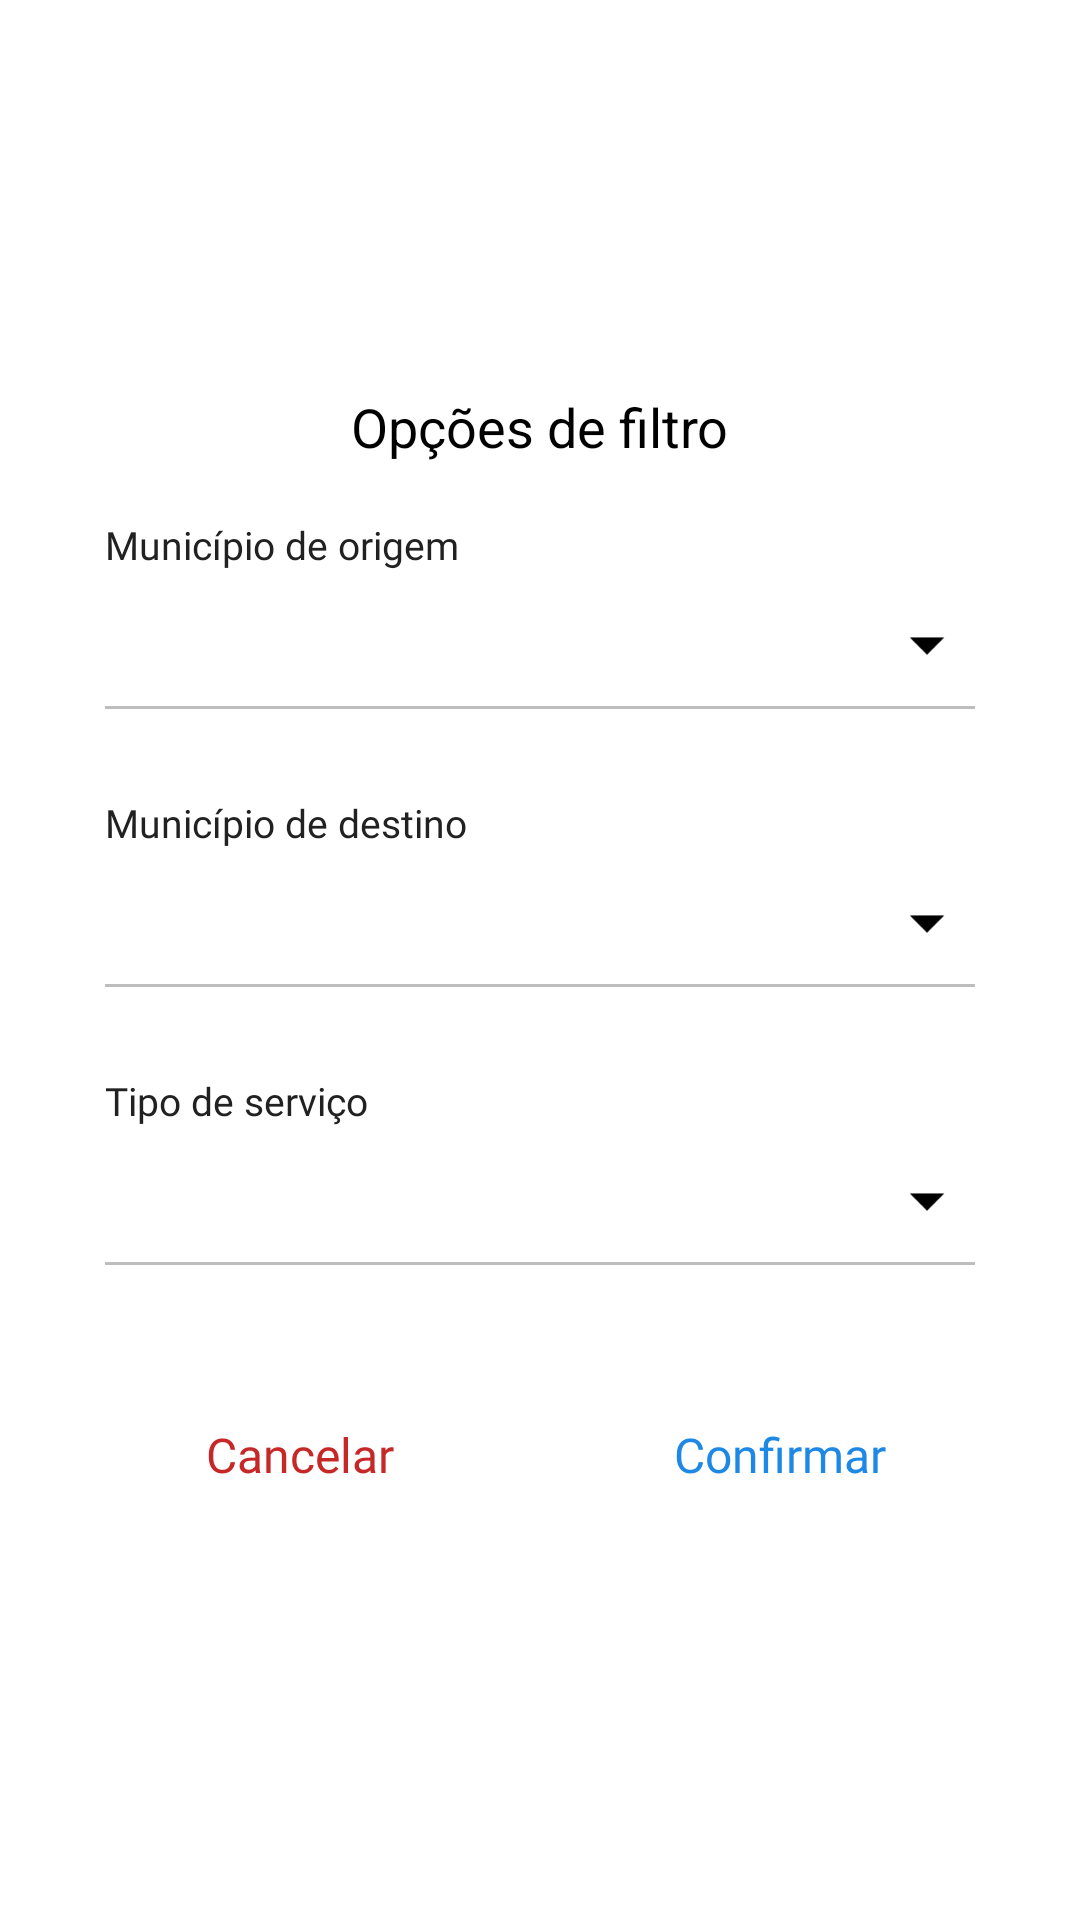

Screen size 1080x1920. Icon name, then its box in pixels as {"x1": x1, "y1": y1, "x2": x2, "y2": y2}:
arrow drop down: {"x1": 910, "y1": 637, "x2": 944, "y2": 655}, {"x1": 910, "y1": 915, "x2": 944, "y2": 933}, {"x1": 910, "y1": 1193, "x2": 944, "y2": 1211}
